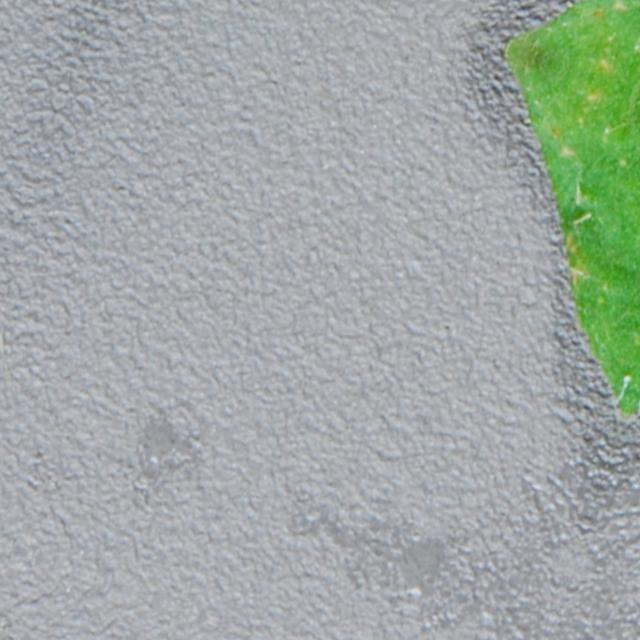Tomato Early blight leaf: (36, 0, 640, 640)
